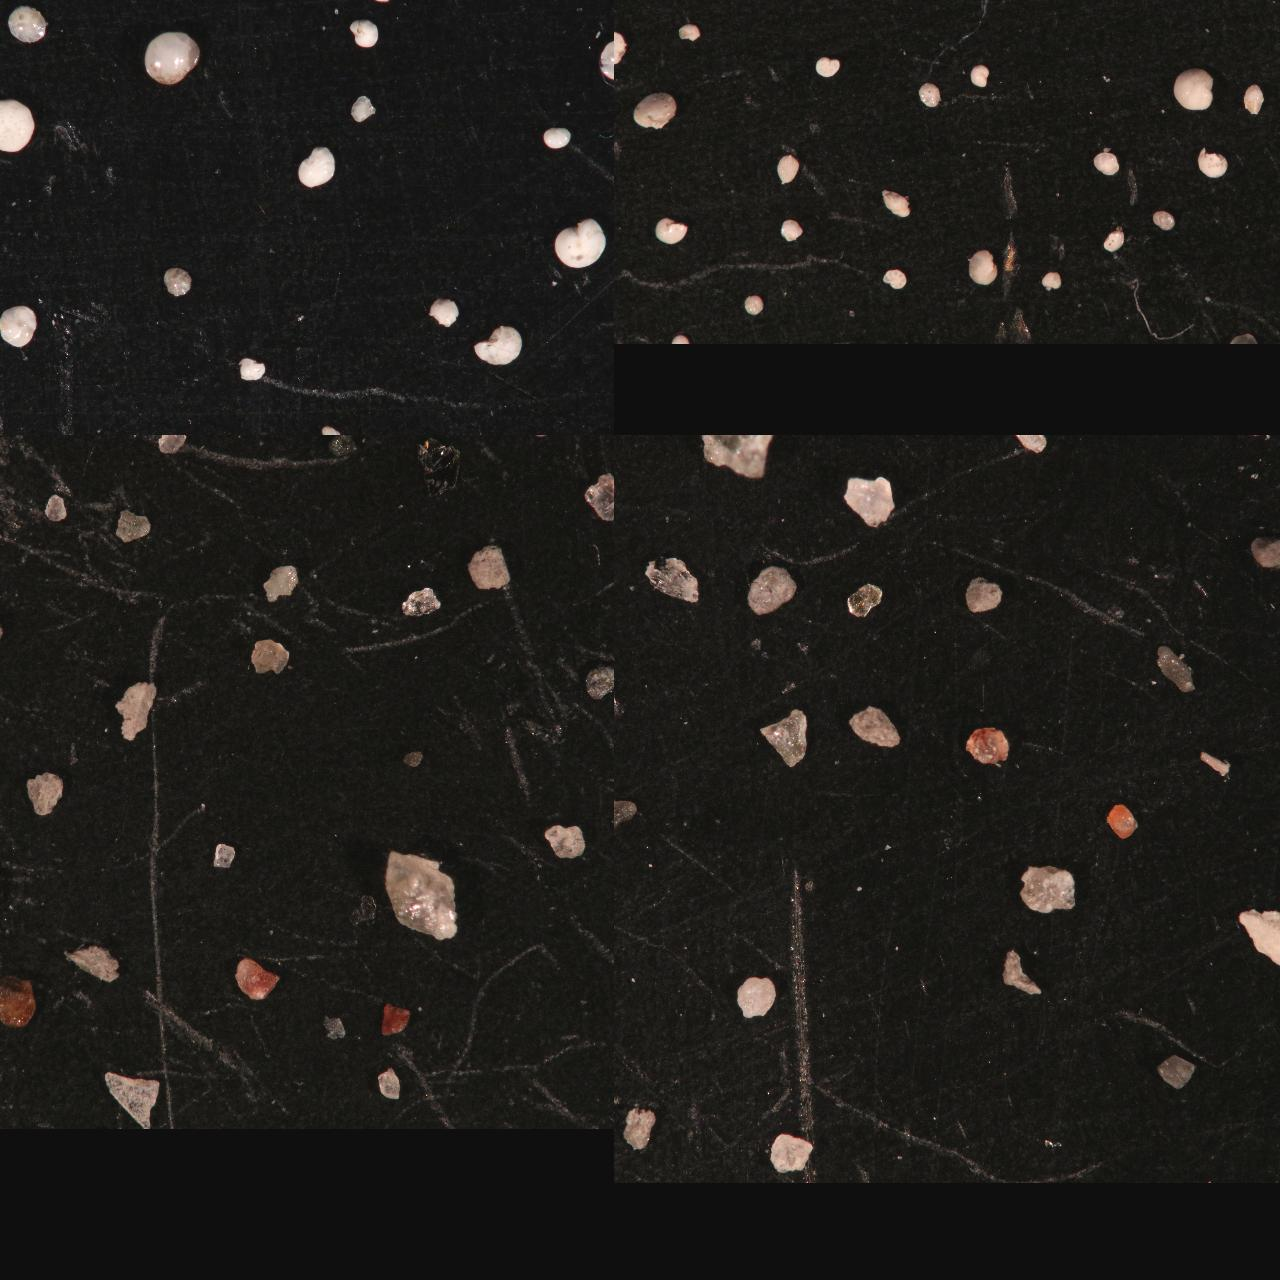Sediment: (383, 847, 458, 942), (0, 893, 54, 981), (700, 435, 776, 481), (102, 1070, 162, 1128), (614, 956, 653, 1040), (842, 475, 896, 530), (757, 708, 806, 768), (1019, 864, 1077, 912), (0, 869, 39, 941), (744, 565, 798, 614), (641, 557, 699, 602), (115, 681, 159, 740), (62, 940, 120, 983), (1237, 908, 1280, 966), (0, 481, 29, 564), (847, 704, 900, 749), (1155, 644, 1198, 695), (614, 891, 647, 958), (233, 956, 280, 1001), (614, 687, 651, 743), (467, 544, 511, 590), (0, 976, 38, 1028), (964, 724, 1010, 765), (25, 770, 66, 816), (769, 1132, 815, 1173), (735, 976, 779, 1017), (0, 815, 30, 874), (1001, 949, 1041, 995), (247, 636, 293, 675), (543, 824, 587, 860), (584, 471, 614, 522), (622, 1107, 658, 1150), (261, 564, 300, 602), (964, 576, 1003, 613), (113, 508, 154, 544), (1158, 1054, 1198, 1089), (1104, 801, 1139, 839), (399, 587, 444, 617), (845, 581, 883, 617), (0, 613, 33, 653), (377, 1002, 413, 1039), (614, 1139, 644, 1183), (1005, 435, 1049, 461), (583, 665, 614, 700), (1250, 535, 1280, 570), (614, 770, 638, 813), (244, 435, 284, 459), (0, 702, 26, 738), (376, 1065, 402, 1099), (1198, 750, 1232, 776), (0, 595, 23, 632), (614, 797, 638, 833), (614, 467, 633, 511), (41, 495, 69, 524), (320, 1014, 348, 1043), (614, 701, 633, 744), (1233, 435, 1276, 454), (377, 435, 423, 452), (614, 1088, 634, 1126), (614, 553, 635, 588), (211, 840, 237, 869), (0, 624, 18, 665), (0, 525, 22, 557), (0, 435, 27, 461), (0, 798, 19, 835), (532, 435, 568, 452), (0, 745, 19, 779), (157, 435, 189, 455), (0, 1001, 15, 1042), (0, 435, 23, 459), (614, 576, 632, 608), (614, 891, 629, 928), (0, 1050, 16, 1083), (0, 435, 25, 452), (614, 574, 627, 606), (614, 435, 635, 452), (0, 435, 15, 451), (614, 435, 629, 448)
calcareous: (144, 30, 202, 84), (553, 218, 607, 270), (472, 325, 525, 365), (1172, 67, 1216, 111), (0, 98, 34, 154), (632, 91, 676, 130), (0, 304, 38, 347), (297, 147, 335, 188), (399, 0, 463, 25), (7, 6, 48, 42), (948, 0, 1003, 22), (808, 0, 858, 23), (967, 248, 999, 285), (0, 399, 32, 431), (428, 299, 461, 329), (654, 217, 688, 245), (1198, 148, 1228, 178), (163, 267, 193, 297), (349, 18, 379, 48), (880, 190, 912, 217), (0, 72, 20, 113), (349, 95, 377, 123), (597, 35, 614, 80), (730, 0, 784, 14), (542, 127, 573, 150), (237, 358, 266, 382), (776, 155, 799, 185), (1242, 84, 1265, 116), (1152, 0, 1190, 19), (1094, 151, 1121, 177), (918, 82, 942, 108), (0, 335, 18, 370), (964, 0, 1003, 15), (52, 0, 86, 18), (1039, 0, 1077, 15), (815, 56, 842, 77), (1217, 0, 1253, 15), (883, 0, 915, 16), (0, 207, 18, 238), (781, 219, 803, 243), (883, 268, 907, 290), (614, 32, 629, 64), (743, 293, 765, 315), (969, 64, 990, 88), (835, 0, 869, 14), (1097, 0, 1131, 14), (1103, 231, 1125, 252), (1231, 0, 1266, 13), (755, 0, 784, 15), (998, 0, 1027, 15), (515, 0, 539, 18), (678, 23, 702, 41), (1041, 272, 1062, 290), (822, 0, 852, 12), (1083, 0, 1109, 13), (1177, 0, 1204, 12), (305, 0, 327, 14), (1061, 0, 1087, 12), (1088, 0, 1114, 12), (370, 0, 395, 12), (917, 0, 941, 12), (0, 142, 12, 165), (1107, 0, 1132, 11), (614, 1, 626, 23), (1180, 0, 1203, 12), (662, 0, 686, 11), (0, 63, 13, 82), (318, 425, 343, 435), (0, 6, 11, 26), (0, 0, 13, 14), (782, 0, 799, 9), (0, 0, 9, 9)
